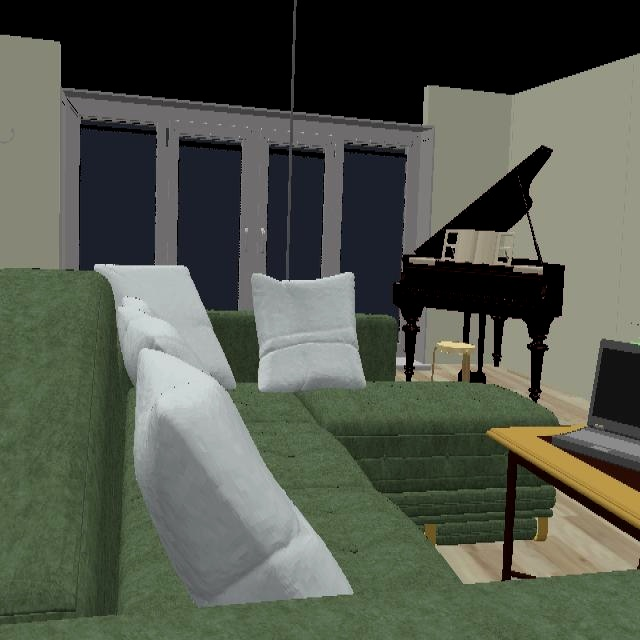laptop: (553, 352, 640, 472)
pillow: (93, 264, 354, 609), (252, 272, 367, 393)
sofa: (0, 269, 640, 640)
table: (486, 428, 640, 581)
